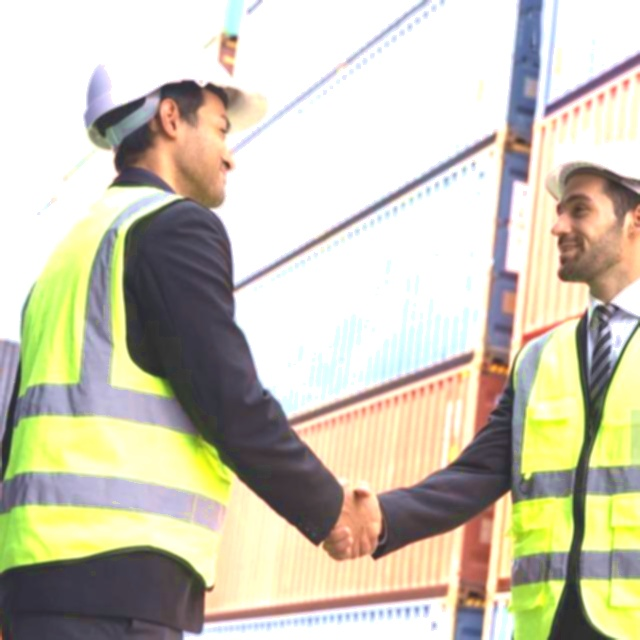Con_Casco: (87, 33, 270, 203), (545, 140, 640, 292)
Con_Chaleco: (3, 180, 242, 591), (502, 313, 640, 640)
